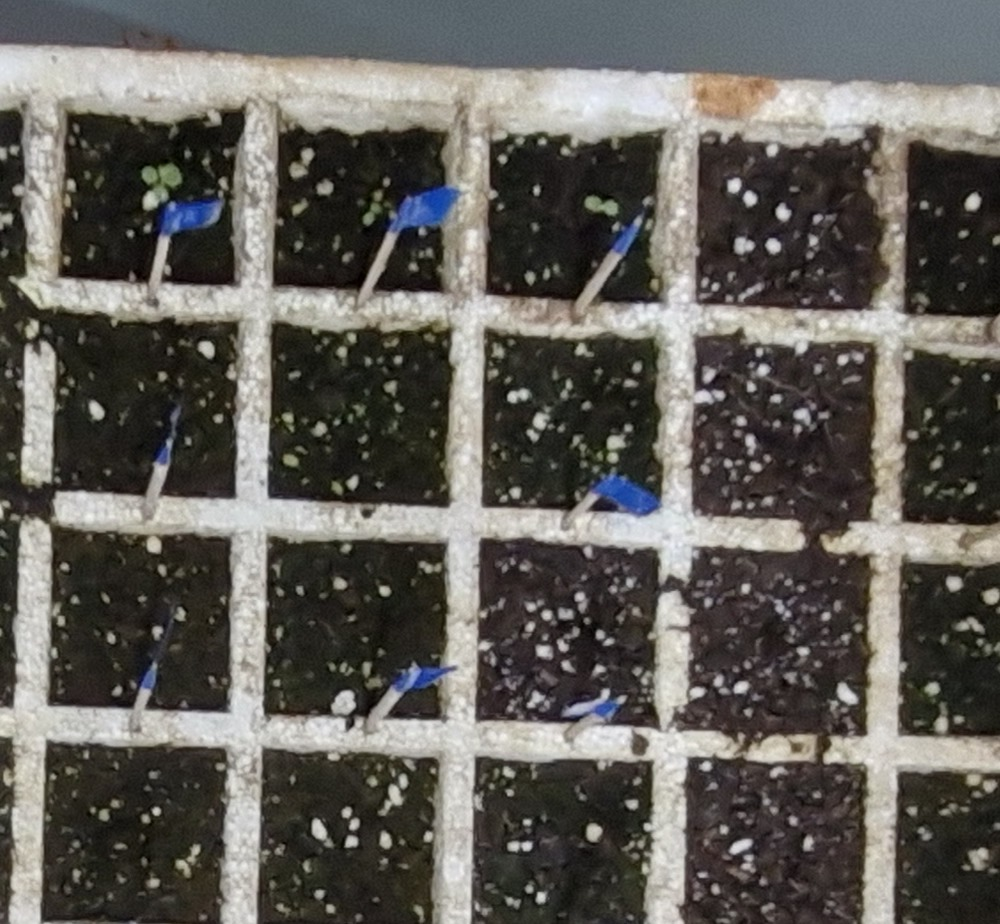Folha: (160, 164, 183, 187), (585, 195, 602, 213), (605, 198, 620, 216), (142, 167, 158, 183), (153, 185, 169, 199), (362, 210, 376, 226), (372, 202, 382, 214)
Germinacao: (142, 164, 182, 202), (584, 195, 619, 217), (363, 203, 383, 225)
